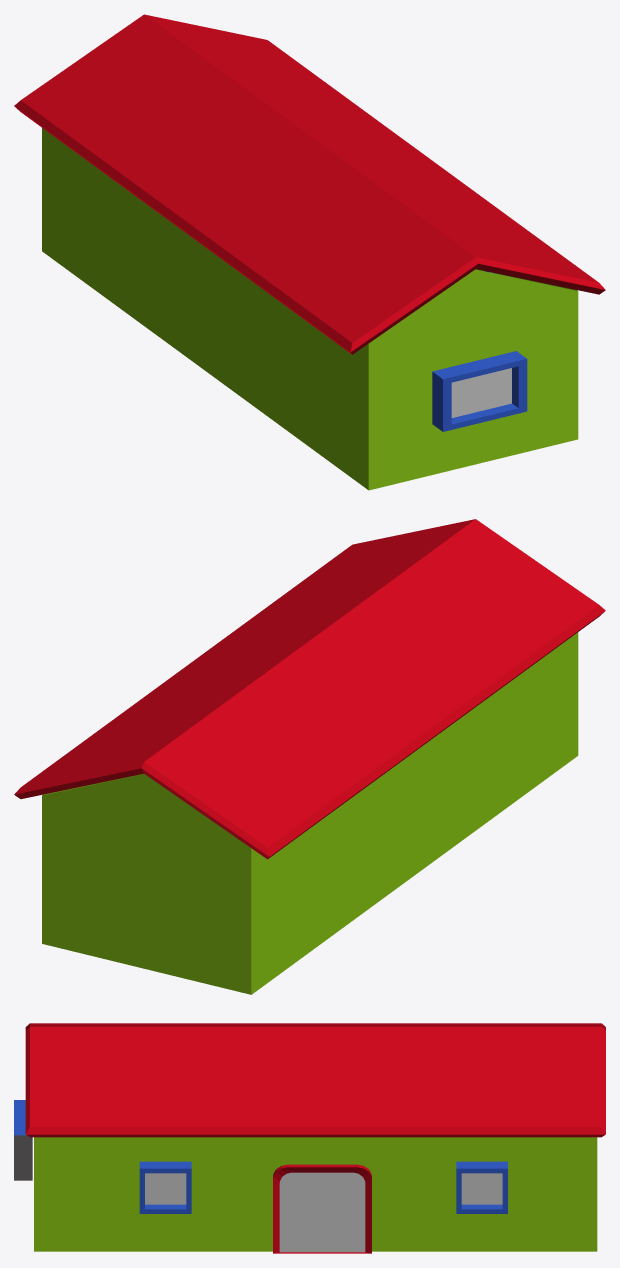
The model's file is sample.dae.
The picture shows the model from 3 angles, top to bottom: view 1: azimuth 30°, elevation 25°; view 2: azimuth 150°, elevation 25°; view 3: azimuth 270°, elevation 25°; orthographic projection. The views are drawn at different scales.
Parts seen in each view (by area): view 1: Roof, Room, WIndow_001; view 2: Roof, Room; view 3: Roof, Room, Plane_001, WIndow_000, WIndow_002, WIndow_001.
Part boxes in pixels (bbox=[...]): Roof: bbox=[14, 14, 605, 354]; Room: bbox=[42, 128, 578, 490]; WIndow_001: bbox=[432, 351, 527, 431]; Roof: bbox=[14, 519, 605, 859]; Room: bbox=[42, 632, 578, 994]; Roof: bbox=[25, 1023, 605, 1137]; Room: bbox=[34, 1137, 597, 1251]; Plane_001: bbox=[273, 1164, 371, 1253]; WIndow_000: bbox=[139, 1161, 191, 1213]; WIndow_002: bbox=[456, 1161, 507, 1213]; WIndow_001: bbox=[14, 1100, 32, 1180].
Bounding box in the file's own units: 3.27 × 7.62 × 2.56.
